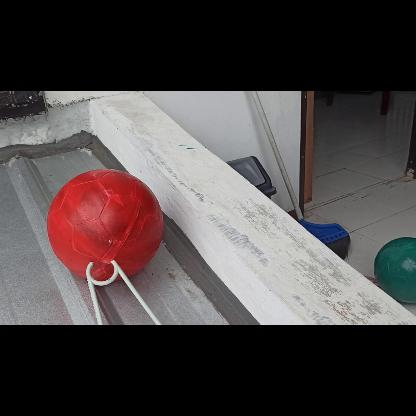red_ball: (46, 166, 162, 282)
